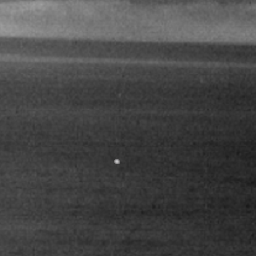Target: (113, 158, 121, 165)
